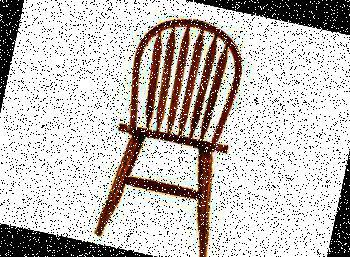Silla: (92, 8, 256, 256)
